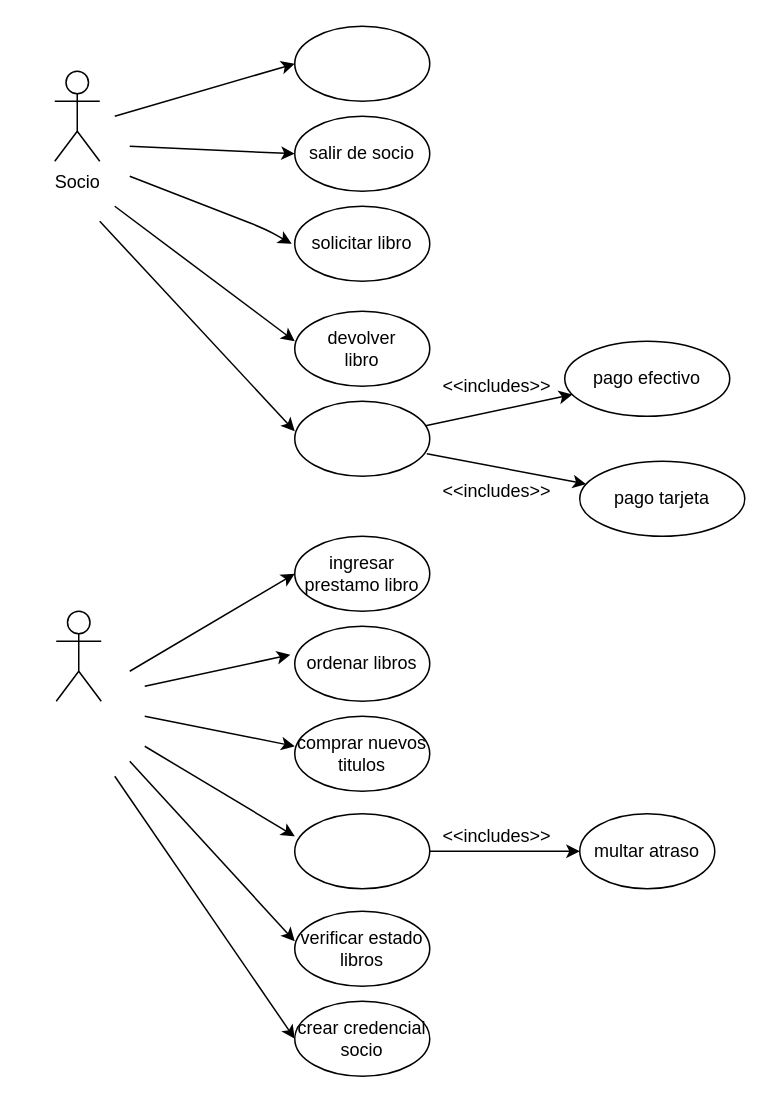
Image size: 771x1103. Some labels were removed from this diagram. The box of each missing label's shape, as (x1, y1, x2, y2) in pixels:
Bicliotecari@: (55, 610, 101, 701)
hacerse socio: (293, 25, 430, 101)
pagar multa: (293, 400, 430, 476)
seguimiento préstamo libro: (293, 812, 430, 889)
